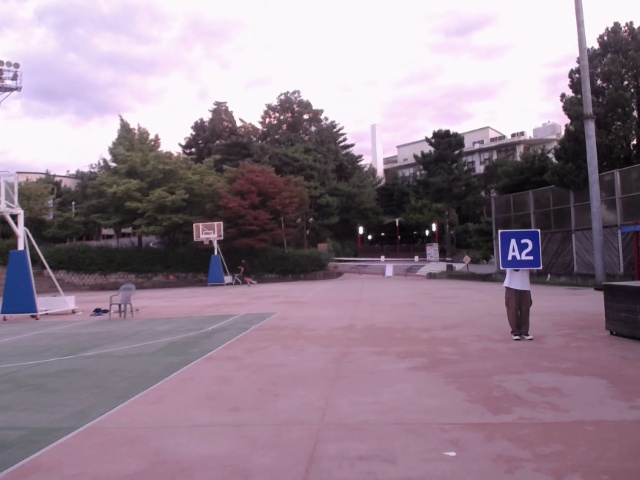delivery_a2: (499, 230, 541, 269)
